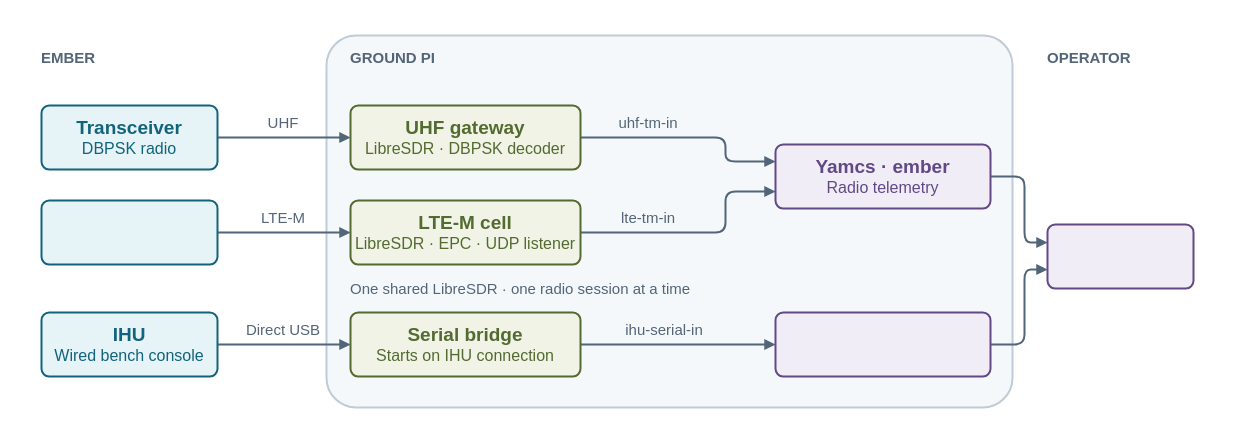
Some shapes in this 1234 by 442 pixel diagram are drawn without their labels. Each missing label, with the box of its shape:
Browser Ethernet or hotspot: (1046, 223, 1194, 289)
Walter LTE-M modem: (40, 199, 218, 265)
Yamcs · ember-bench Wired telemetry: (774, 311, 991, 377)
